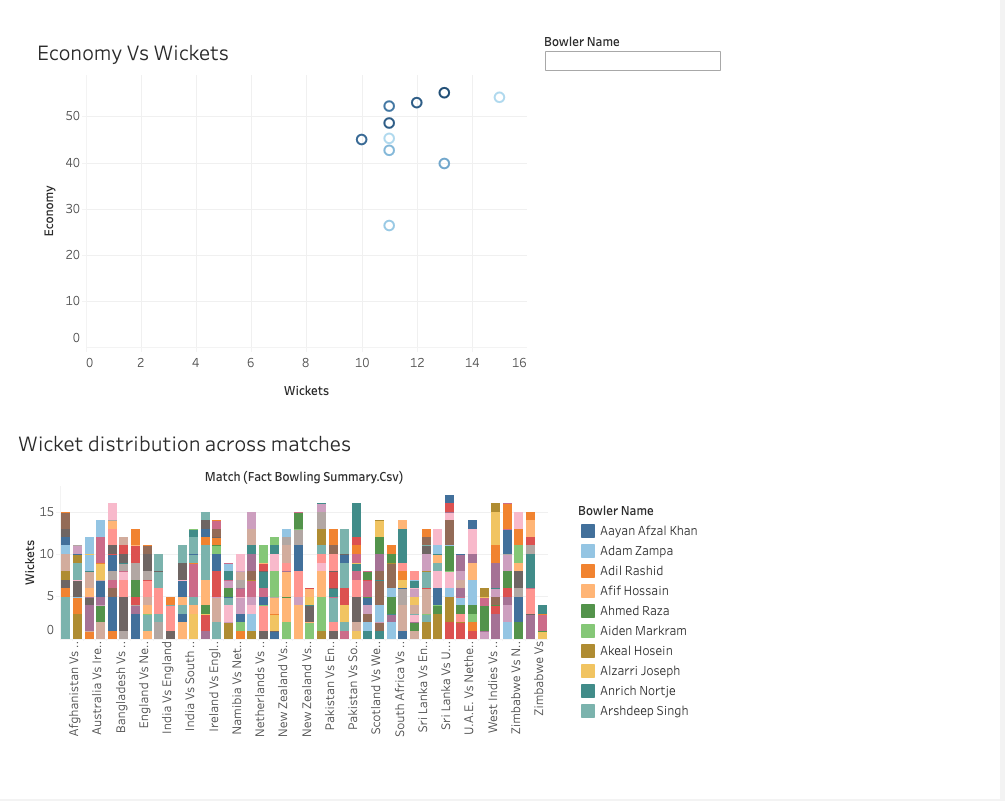

Layout of this report page (visuals, bound fields, positions):
{"tool":"tableau","page":{"name":"Dashboard 2","canvas":[1000,800],"ordinal":1},"visuals":[{"type":"worksheet","title":"Sheet 4","mark":"Automatic","rows":["economy"],"cols":["wickets"],"box":[33,33,494,372]},{"type":"filter","title":"Sheet 4","param":"[federated.1qs3vtc0l7n1h51cvw0ro1d9naxc].[none:bowlerName:nk]","box":[544,33,178,136]},{"type":"worksheet","title":"Sheet 5","mark":"Bar","rows":["wickets"],"cols":["match (fact_bowling_summary.csv)"],"box":[14,424,535,316]},{"type":"legend","title":"Sheet 5","param":"[federated.1qs3vtc0l7n1h51cvw0ro1d9naxc].[none:bowlerName:nk]","box":[578,503,160,219]}]}

Visuals, with their boxes in screenshot pixels (x1, y1, x2, y2), scaled from the page's 1000x800 canvas onto the 1005x801 screenshot:
"Sheet 4" worksheet: detection(33, 33, 530, 406)
"Sheet 4" filter: detection(547, 33, 726, 169)
"Sheet 5" worksheet (Bar marks): detection(14, 425, 552, 741)
"Sheet 5" legend: detection(581, 504, 742, 723)
